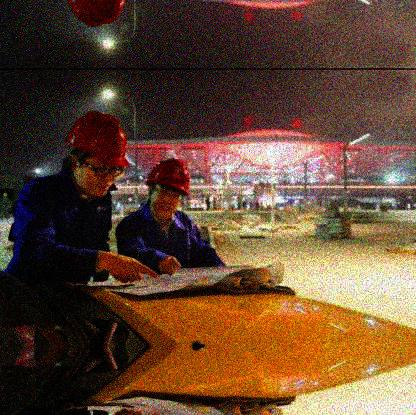helmet: (65, 111, 131, 199), (146, 157, 192, 220)
